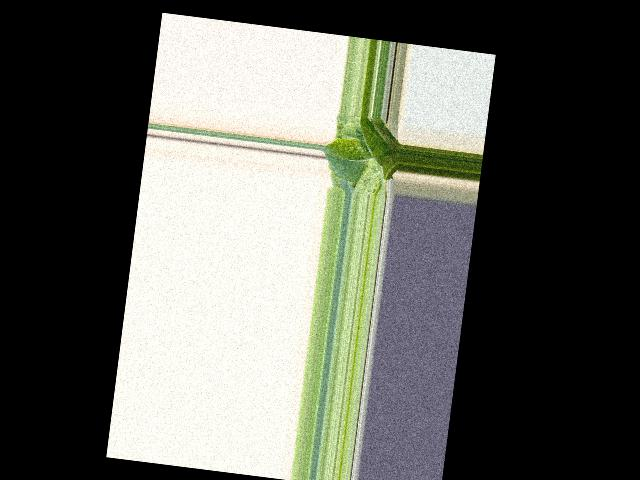lettuce: (324, 113, 404, 190)
